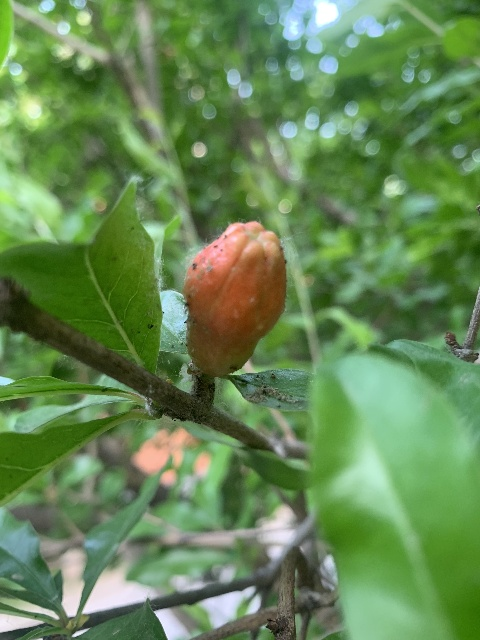bud: (182, 221, 287, 375)
